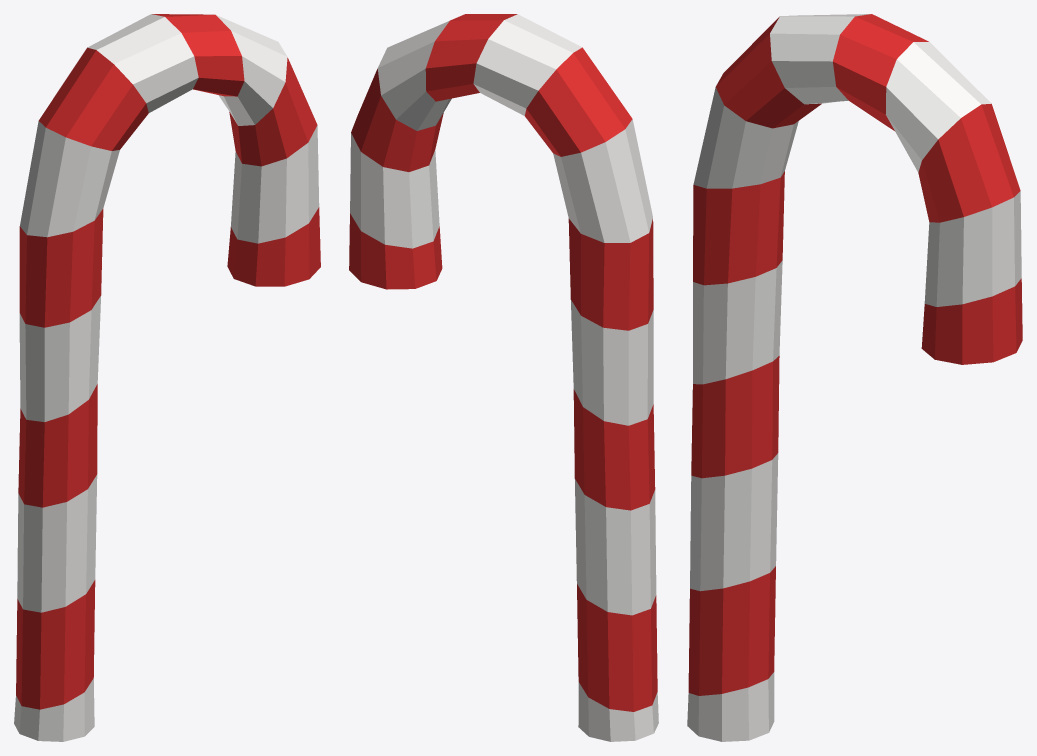
Rendered from Isl_16_Candy_1.fbx.
3 views of the same model, side by side, from view 1: azimuth 30°, elevation 25°; view 2: azimuth 150°, elevation 25°; view 3: azimuth 330°, elevation 25° (orthographic). The views are drawn at different scales.
Parts seen in each view (by area): view 1: Isl_16_Candy_1; view 2: Isl_16_Candy_1; view 3: Isl_16_Candy_1.
Boxes of the visible parts, box(x1,y1,x2,y2) form: Isl_16_Candy_1: box(14, 14, 320, 741); Isl_16_Candy_1: box(349, 14, 658, 741); Isl_16_Candy_1: box(687, 14, 1022, 741).
Bounding box in the file's own units: 124 × 35.84 × 270.
Materials: 1 (1 with a texture image).
